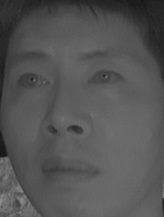eye: (86, 67, 126, 91), (16, 69, 51, 95)
mouth: (34, 153, 102, 191)
